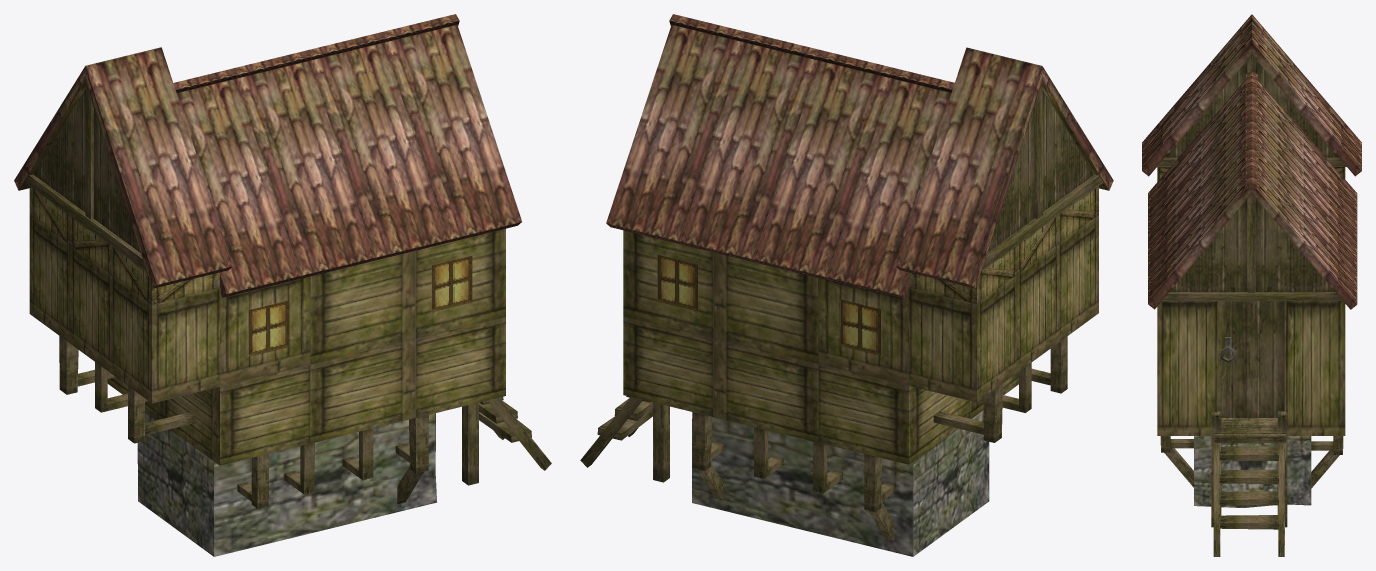
File: S_Build_Xsc058.FBX
3 views of the same model, side by side, from view 1: azimuth 30°, elevation 25°; view 2: azimuth 150°, elevation 25°; view 3: azimuth 270°, elevation 25° (orthographic). The views are drawn at different scales.
Parts seen in each view (by area): view 1: S_Build_Xsc058; view 2: S_Build_Xsc058; view 3: S_Build_Xsc058.
Part boxes in pixels (x1,y1,x2,y2): S_Build_Xsc058: (14,14,551,556); S_Build_Xsc058: (580,14,1113,556); S_Build_Xsc058: (1142,14,1361,556).
Size of the model in its own units: 900 by 960 by 504.
